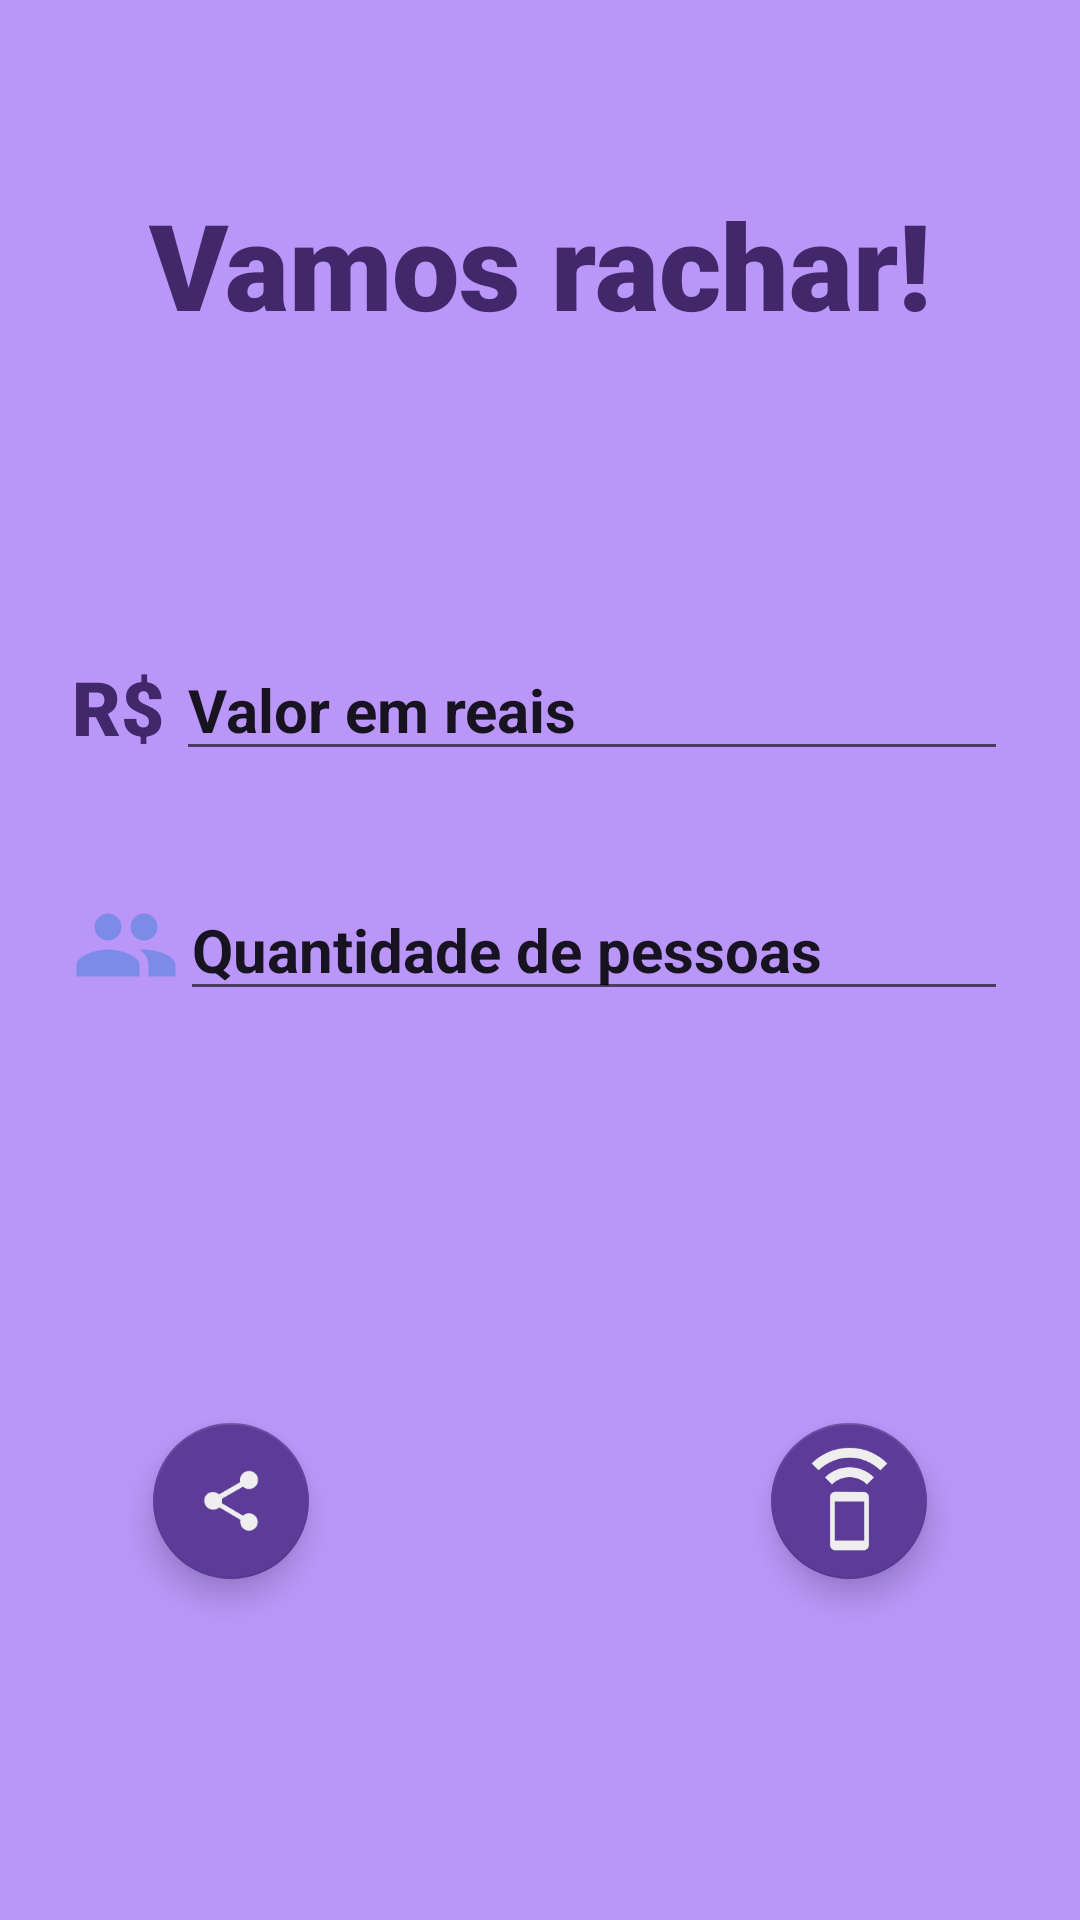

Where to tap for icons on this 1080px x 1920px app screen, as [x,y]:
Compartilhar resultado: [231,1501]
